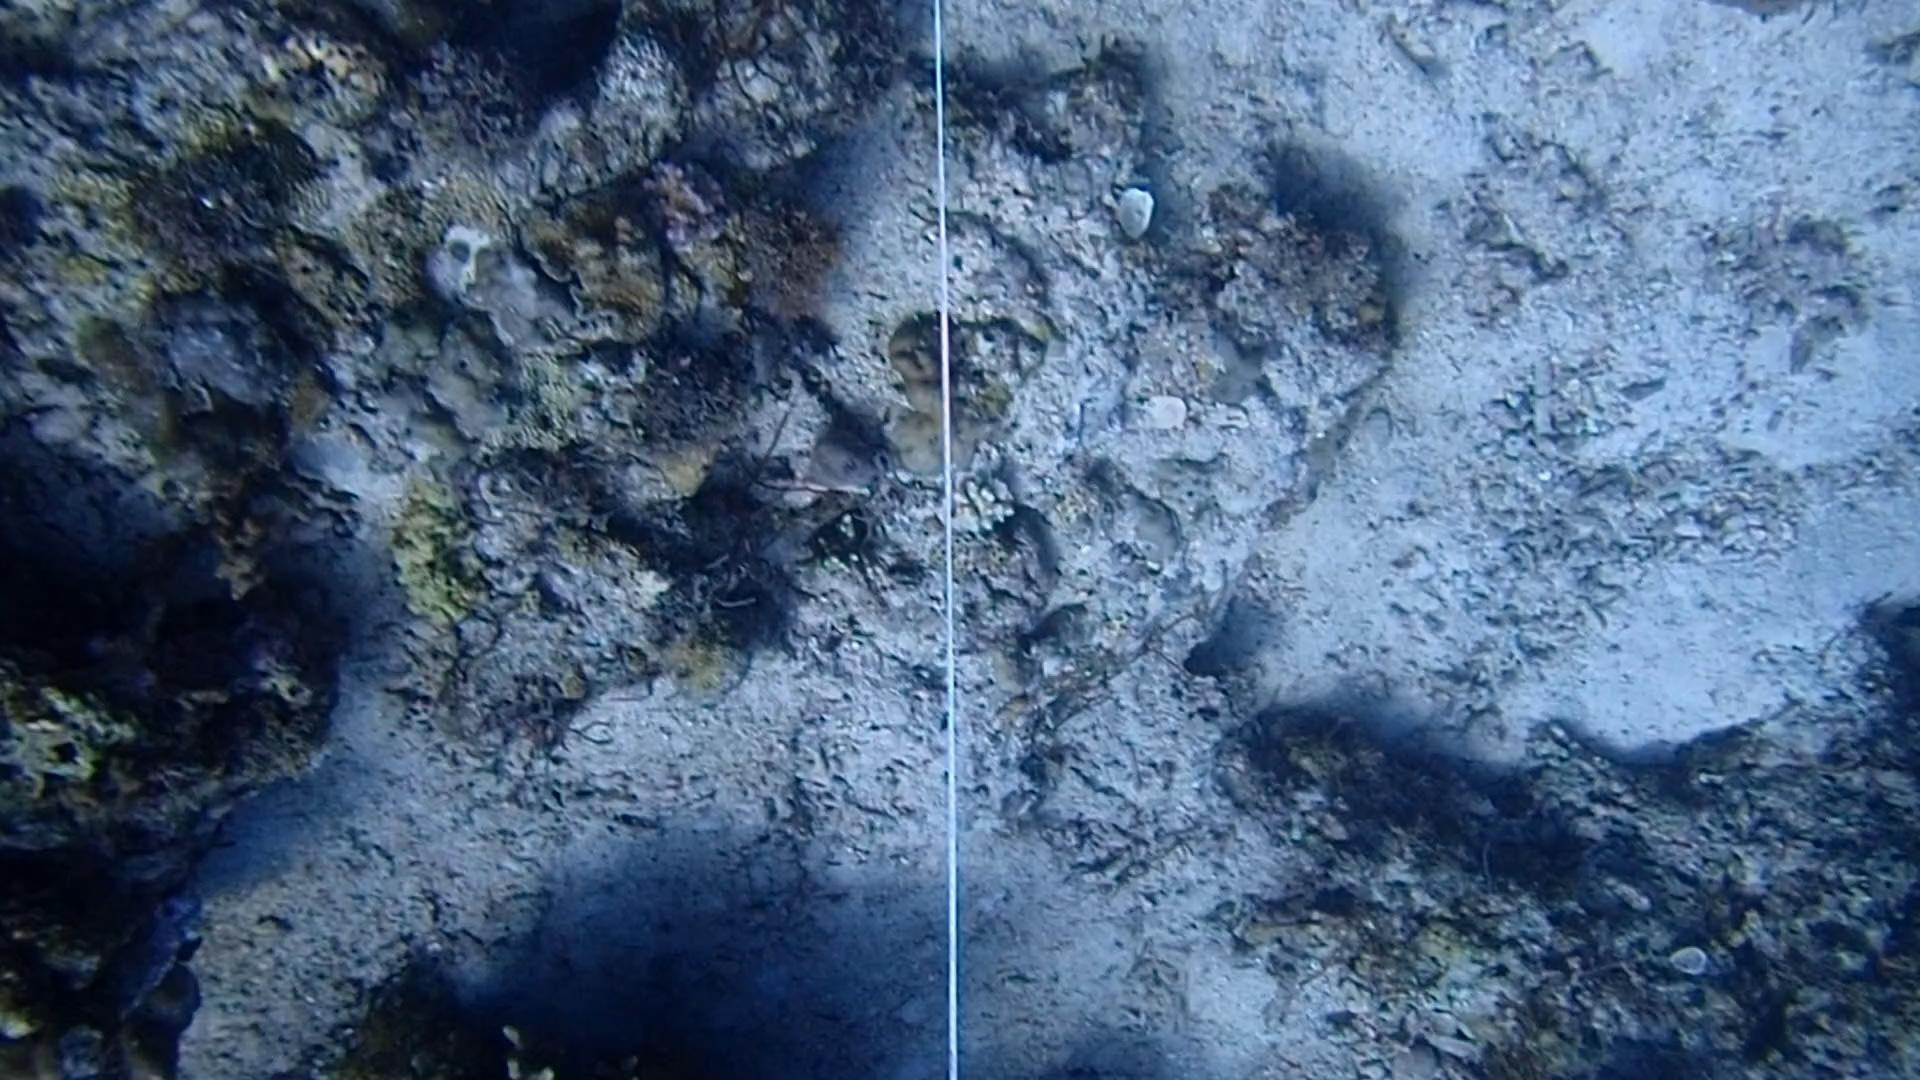Dark Fish: (1725, 996, 1807, 1075)
